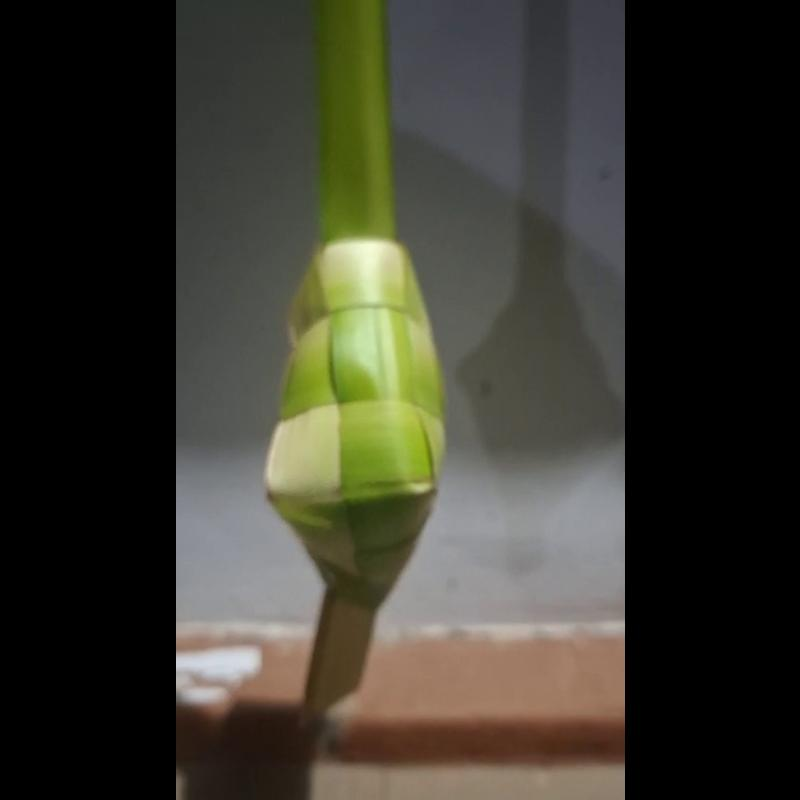Tipat Nasi: (262, 230, 458, 705)
